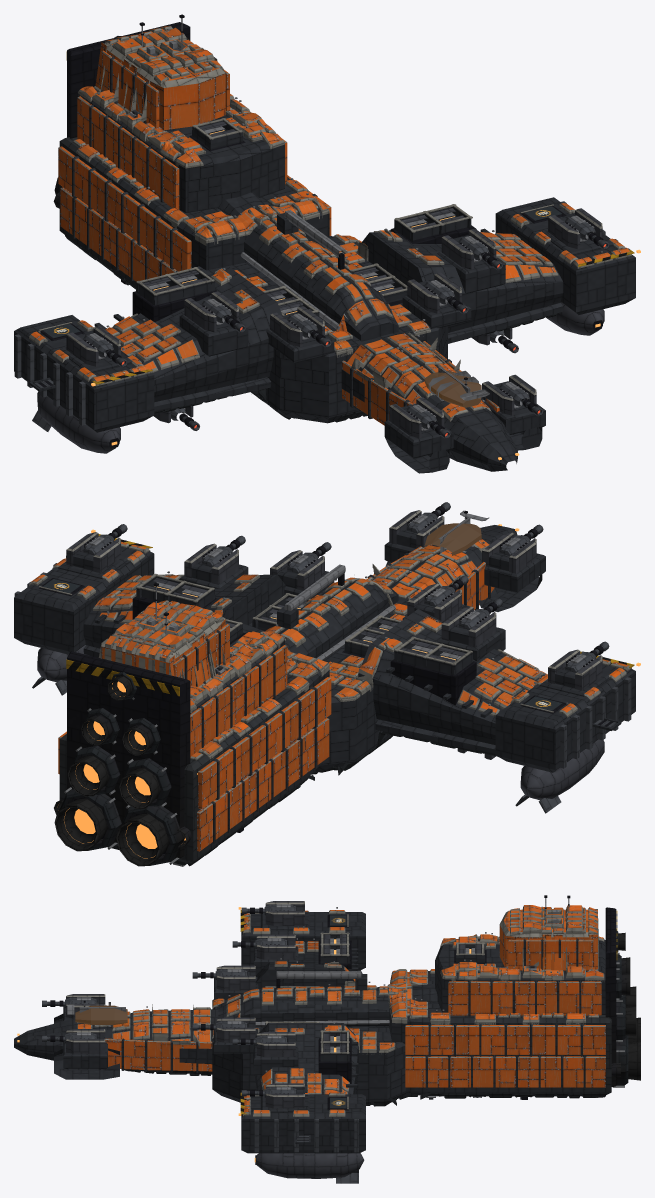
File: saturn-schiff6.glb
3 renders of one model, top to bottom at view 1: azimuth 30°, elevation 25°; view 2: azimuth 150°, elevation 25°; view 3: azimuth 270°, elevation 25°, orthographic. The views are drawn at different scales.
Parts seen in each view (by area): view 1: Hull_LOD0; view 2: Hull_LOD0, EngineLight, Laser_04, Laser_01, Laser_05, Laser_02, Laser_03, Laser_07, Laser_08, Laser_06; view 3: Hull_LOD0.
Boxes of the visible parts, x1,y1,x2,y2 form: Hull_LOD0: (14,14,640,473); Hull_LOD0: (14,510,640,866); EngineLight: (64,681,185,858); Laser_04: (424,575,468,606); Laser_01: (406,502,450,533); Laser_05: (201,535,245,566); Laser_02: (499,524,543,555); Laser_03: (287,542,331,573); Laser_07: (83,524,127,555); Laser_08: (565,641,609,672); Laser_06: (458,598,502,629); Hull_LOD0: (14,895,640,1183).
Bounding box in the file's own units: 67.9 × 28.11 × 81.6.
Materials: 6 (4 with a texture image).
